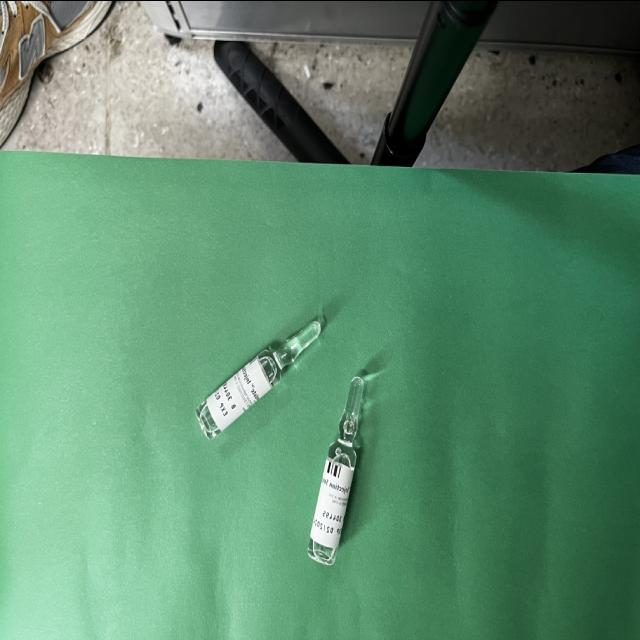Ampoules: (196, 318, 322, 438), (308, 375, 364, 564)
